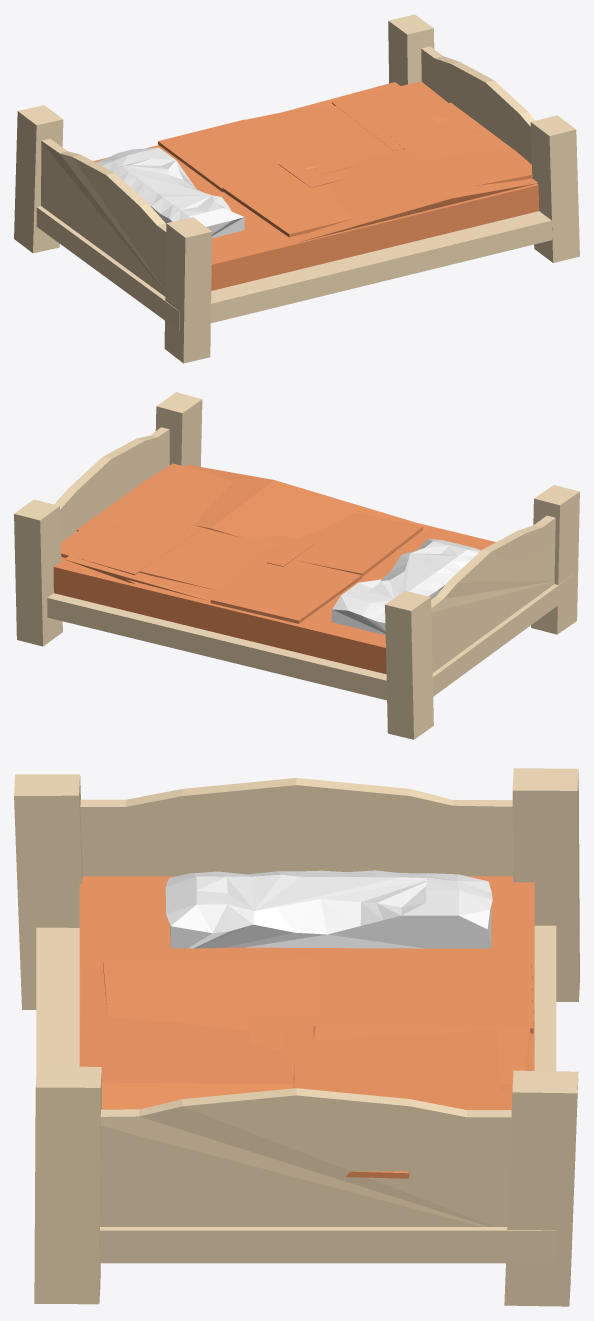
The model's file is bed04.gltf.
3 renders of one model, top to bottom at view 1: azimuth 30°, elevation 25°; view 2: azimuth 150°, elevation 25°; view 3: azimuth 270°, elevation 25°, orthographic. The views are drawn at different scales.
Visible parts, largest first — view 1: group23987091, group1841200612, group211249736, group2012558372, group1002262456, group1113797814, group109691886, group2115953417, group1536879230, group1390802298, group934344302, group1646594086 (+6 smaller); view 2: group1841200612, group23987091, group211249736, group2012558372, group2085669942, group1527150140, group1113797814, group2115953417, group1536879230, group1390802298, group934344302, group1646594086 (+6 smaller); view 3: group1536879230, group211249736, group23987091, group1113797814, group2012558372, group109691886, group1841200612, group2115953417, group1527150140, group934344302, group1646594086, group2085669942 (+4 smaller).
Boxes of the visible parts, bbox=[...] form: group23987091: bbox=[36, 206, 552, 330]; group1841200612: bbox=[93, 145, 539, 290]; group211249736: bbox=[41, 138, 166, 296]; group2012558372: bbox=[289, 150, 537, 243]; group1002262456: bbox=[164, 217, 212, 363]; group1113797814: bbox=[96, 147, 244, 238]; group109691886: bbox=[530, 115, 579, 262]; group2115953417: bbox=[158, 119, 293, 192]; group1536879230: bbox=[421, 46, 534, 163]; group1390802298: bbox=[332, 81, 481, 150]; group934344302: bbox=[222, 172, 353, 237]; group1646594086: bbox=[258, 105, 404, 174]; group1841200612: bbox=[53, 523, 495, 674]; group23987091: bbox=[47, 575, 573, 700]; group211249736: bbox=[431, 515, 555, 672]; group2012558372: bbox=[186, 464, 430, 539]; group2085669942: bbox=[385, 591, 433, 739]; group1527150140: bbox=[14, 499, 62, 646]; group1113797814: bbox=[331, 539, 481, 635]; group2115953417: bbox=[210, 559, 361, 623]; group1536879230: bbox=[54, 427, 169, 542]; group1390802298: bbox=[61, 505, 201, 575]; group934344302: bbox=[295, 512, 423, 576]; group1646594086: bbox=[139, 525, 281, 590]; group1536879230: bbox=[100, 1088, 511, 1226]; group211249736: bbox=[80, 778, 512, 876]; group23987091: bbox=[36, 925, 556, 1263]; group1113797814: bbox=[165, 870, 492, 948]; group2012558372: bbox=[79, 967, 294, 1109]; group109691886: bbox=[34, 1066, 101, 1304]; group1841200612: bbox=[79, 876, 534, 1070]; group2115953417: bbox=[317, 956, 533, 1033]; group1527150140: bbox=[504, 1070, 578, 1306]; group934344302: bbox=[103, 957, 322, 1031]; group1646594086: bbox=[282, 1029, 499, 1092]; group2085669942: bbox=[512, 768, 579, 1001].
Bounding box in the file's own units: 1.79 × 0.5691 × 1.3.
